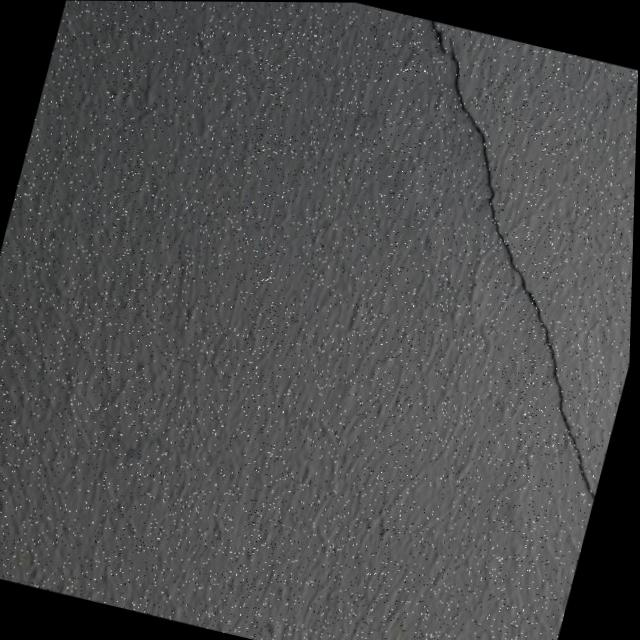Crack: (316, 18, 640, 518)
